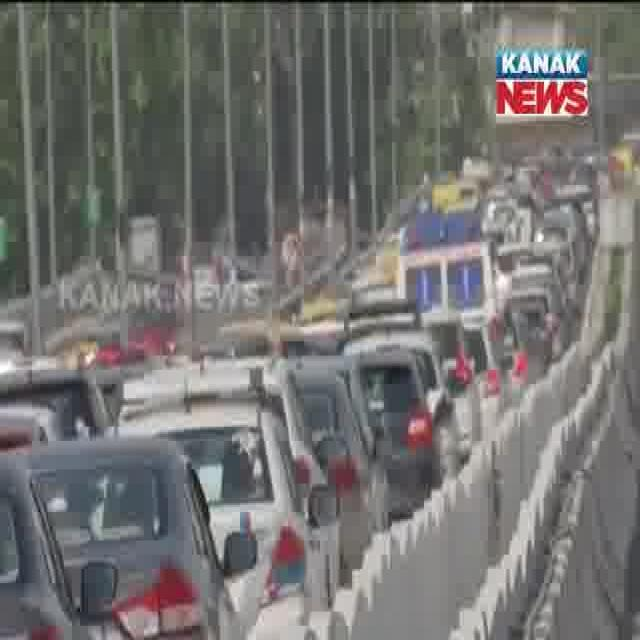ambulance: (394, 219, 494, 318)
